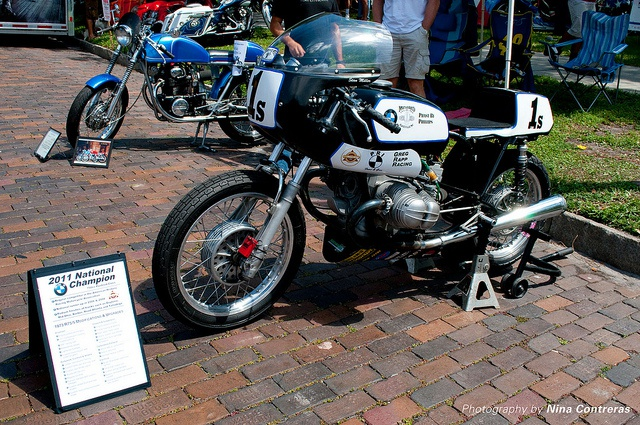non-vehicle: (149, 10, 575, 329), (65, 10, 266, 152)
